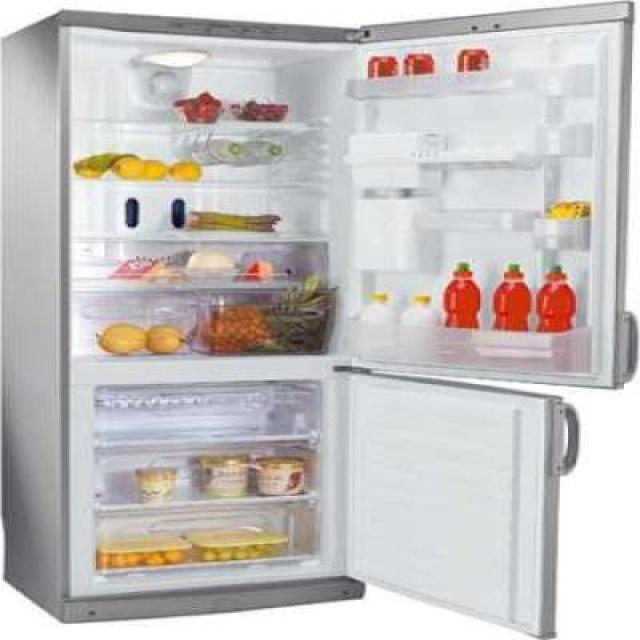refrigerator: (57, 12, 425, 588)
